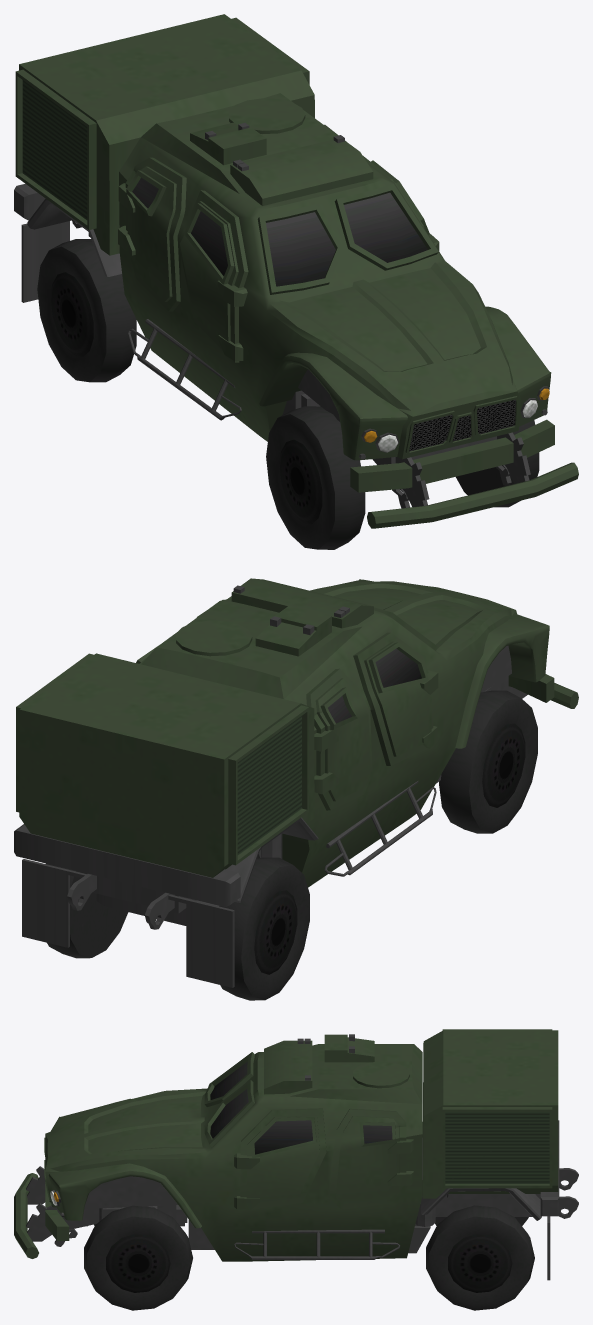
The model's file is lavt.obj.
The picture shows the model from 3 angles, top to bottom: view 1: azimuth 30°, elevation 25°; view 2: azimuth 150°, elevation 25°; view 3: azimuth 270°, elevation 25°; orthographic projection. The views are drawn at different scales.
Parts seen in each view (by area): view 1: Cube_Cube.002; view 2: Cube_Cube.002; view 3: Cube_Cube.002.
Part boxes in pixels (<box>): Cube_Cube.002: <box>14,14,578,549</box>; Cube_Cube.002: <box>14,578,578,1000</box>; Cube_Cube.002: <box>14,1029,578,1310</box>.
Size of the model in its own units: 2.07 by 2.67 by 6.15.
Materials: 1 (1 with a texture image).
